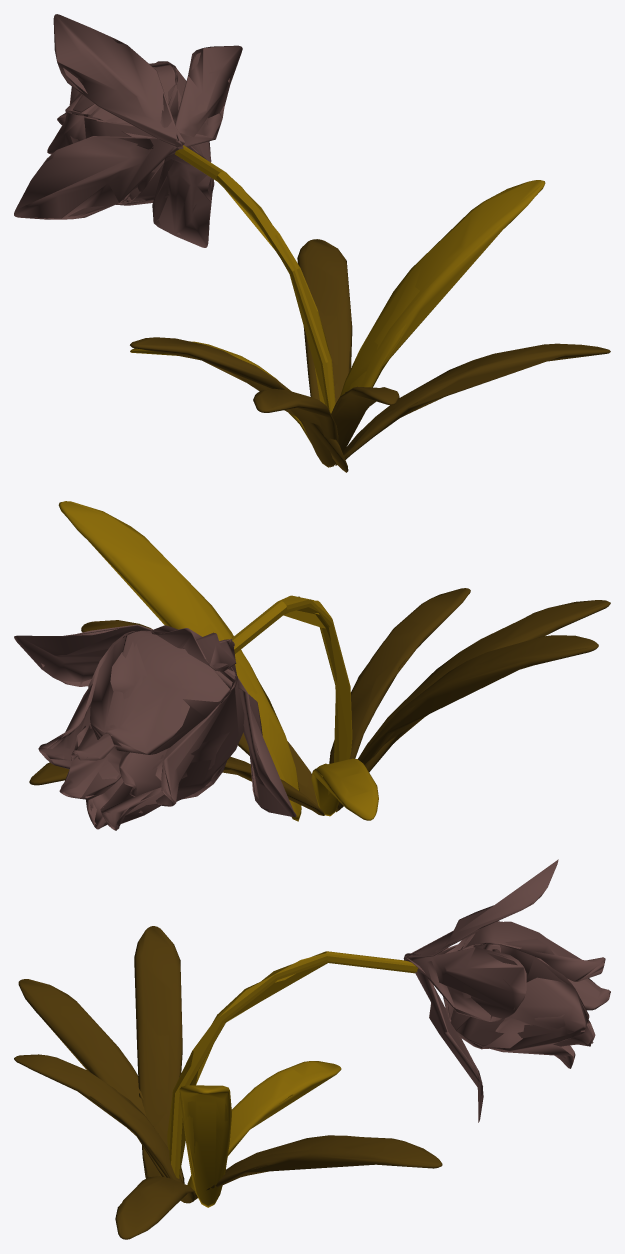
File: tulipan_MARCHITO.fbx
3 views of the same model, one above another, from view 1: azimuth 30°, elevation 25°; view 2: azimuth 150°, elevation 25°; view 3: azimuth 270°, elevation 25° (orthographic). The views are drawn at different scales.
Parts seen in each view (by area): view 1: DEMAS2.021, Cubo.351, Cubo.019, Cubo.052, Plano.052, Cubo.051, Cubo.021, Cubo.039; view 2: DEMAS2.021, Cubo.351, Cubo.051, Cubo.039, Plano.052, Cubo.021, Cubo.349, Cubo.052, Cubo.019; view 3: DEMAS2.021, Cubo.051, Cubo.052, Plano.052, Cubo.021, Cubo.351, Cubo.039, Cubo.349, Cubo.019.
Part boxes in pixels (left/top/right/bottom): DEMAS2.021: left=14, top=14, right=242, bottom=247; Cubo.351: left=340, top=180, right=545, bottom=396; Cubo.019: left=335, top=343, right=610, bottom=465; Cubo.052: left=297, top=239, right=352, bottom=403; Plano.052: left=175, top=145, right=335, bottom=413; Cubo.051: left=130, top=337, right=348, bottom=472; Cubo.021: left=253, top=389, right=338, bottom=467; Cubo.039: left=331, top=386, right=399, bottom=464; DEMAS2.021: left=14, top=624, right=296, bottom=830; Cubo.351: left=58, top=501, right=301, bottom=821; Cubo.051: left=360, top=635, right=598, bottom=764; Cubo.039: left=329, top=588, right=470, bottom=809; Plano.052: left=231, top=595, right=352, bottom=762; Cubo.021: left=336, top=600, right=610, bottom=812; Cubo.349: left=311, top=758, right=378, bottom=820; Cubo.052: left=29, top=756, right=324, bottom=815; Cubo.019: left=81, top=620, right=318, bottom=806; DEMAS2.021: left=403, top=859, right=610, bottom=1122; Cubo.051: left=134, top=926, right=182, bottom=1178; Cubo.052: left=195, top=1135, right=442, bottom=1199; Plano.052: left=167, top=951, right=418, bottom=1178; Cubo.021: left=18, top=979, right=184, bottom=1183; Cubo.351: left=179, top=1085, right=231, bottom=1207; Cubo.039: left=14, top=1054, right=182, bottom=1183; Cubo.349: left=187, top=1061, right=341, bottom=1193; Cubo.019: left=115, top=1176, right=195, bottom=1239.
Size of the model in its own units: 529 by 356 by 627.
